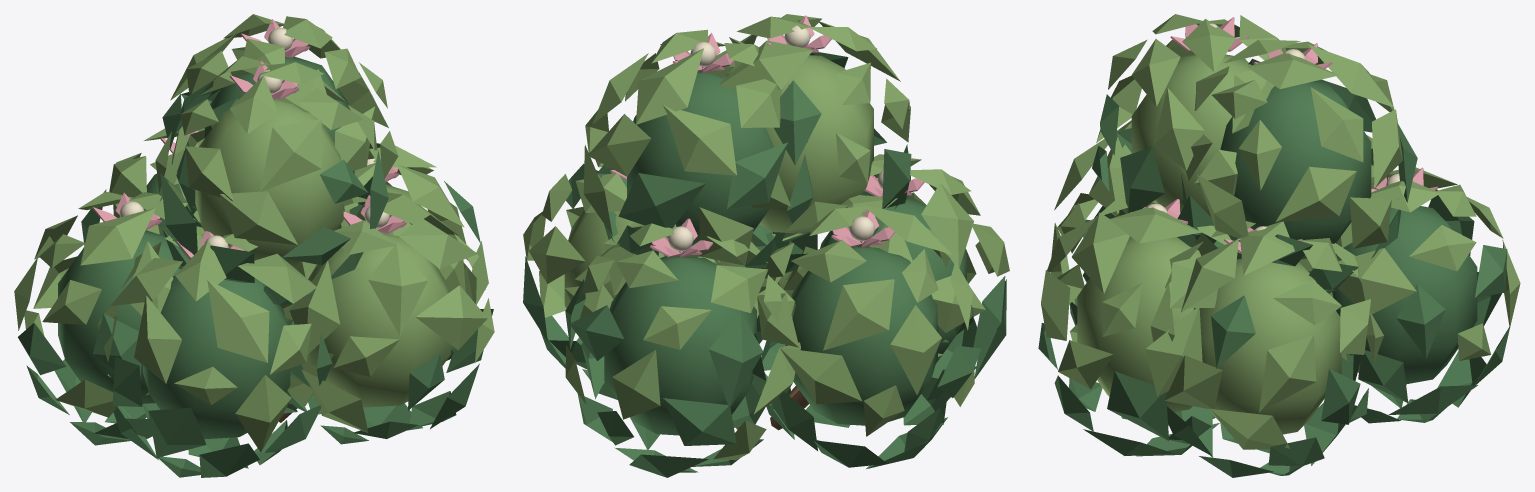
File: shrub.flowering.glb
3 renders of one model, left to right at view 1: azimuth 30°, elevation 25°; view 2: azimuth 150°, elevation 25°; view 3: azimuth 270°, elevation 25°, orthographic. The views are drawn at different scales.
Parts seen in each view (by area): view 1: Low woody shoot; view 2: Low woody shoot; view 3: Low woody shoot.
Boxes of the visible parts, x1,y1,x2,y2 form: Low woody shoot: (14,14,494,477); Low woody shoot: (523,14,1009,477); Low woody shoot: (1038,14,1520,477).
Bounding box in the file's own units: 0.8213 × 0.6761 × 0.7656.
